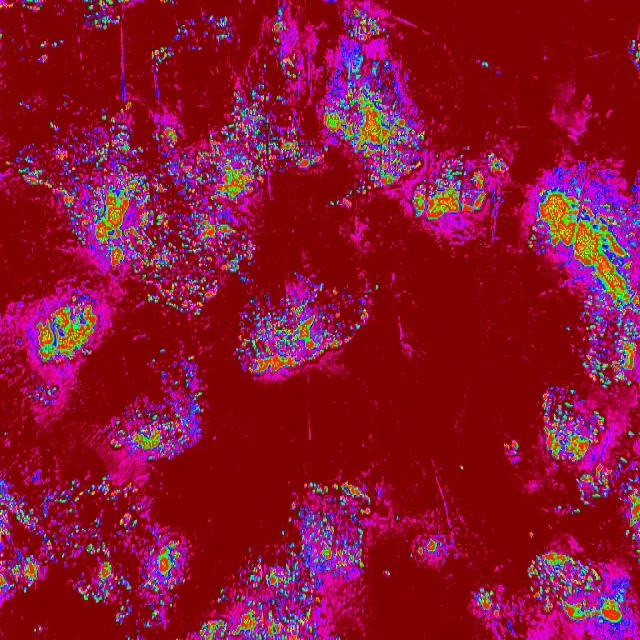fire: (40, 100, 322, 310), (0, 469, 194, 640), (474, 551, 640, 640), (235, 282, 381, 382), (2, 282, 107, 421), (326, 51, 424, 187), (536, 176, 640, 299), (200, 566, 369, 640), (539, 391, 640, 505), (283, 480, 401, 566), (116, 352, 206, 458), (408, 152, 514, 236), (573, 301, 640, 393), (415, 532, 458, 564)
